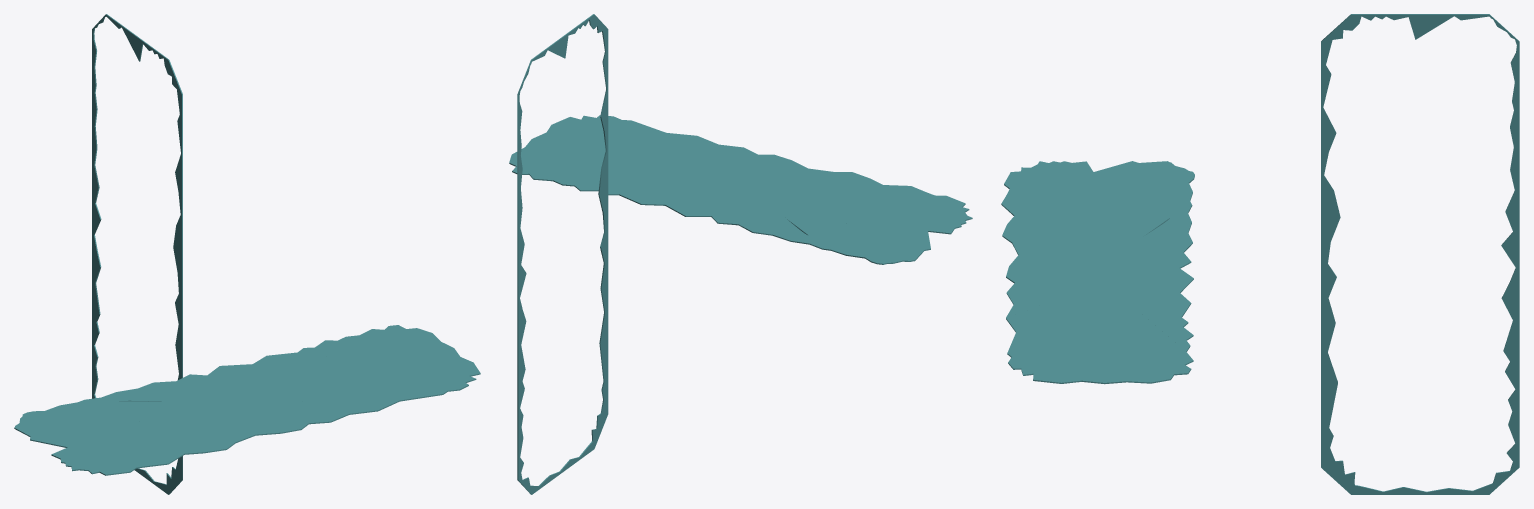
Rendered from KIRIK_CAM.fbx.
3 views of the same model, side by side, from view 1: azimuth 30°, elevation 25°; view 2: azimuth 150°, elevation 25°; view 3: azimuth 270°, elevation 25° (orthographic). The views are drawn at different scales.
Visible parts, largest first — view 1: Object006, Line024, Line003, Line023, Line005, Line021, Line008, Line022, Line012, Line010, Line018, Line017 (+4 smaller); view 2: Line003, Object006, Line024, Line023, Line005, Line021, Line008, Line022, Line012, Line010, Line018, Line017 (+4 smaller); view 3: Line003, Object006, Line024, Line023, Line005, Line021, Line008, Line022, Line012, Line018, Line010, Line017 (+4 smaller).
Boxes of the visible parts, x1,y1,x2,y2 form: Object006: [119, 370, 316, 447]; Line024: [305, 357, 480, 411]; Line003: [92, 14, 182, 494]; Line023: [305, 325, 459, 369]; Line005: [51, 423, 173, 474]; Line021: [154, 356, 266, 397]; Line008: [14, 423, 172, 447]; Line022: [257, 335, 358, 375]; Line012: [99, 423, 180, 475]; Line010: [22, 401, 136, 421]; Line018: [285, 370, 377, 410]; Line017: [281, 399, 377, 424]; Line003: [517, 14, 608, 494]; Object006: [652, 155, 874, 235]; Line024: [546, 115, 696, 182]; Line023: [509, 132, 651, 182]; Line005: [826, 204, 972, 234]; Line021: [641, 195, 756, 232]; Line008: [826, 204, 927, 259]; Line022: [553, 180, 687, 204]; Line012: [825, 192, 965, 207]; Line010: [809, 218, 886, 264]; Line018: [652, 136, 712, 182]; Line017: [697, 136, 757, 170]; Line003: [1321, 14, 1519, 494]; Object006: [1014, 214, 1169, 309]; Line024: [1006, 310, 1137, 383]; Line023: [1081, 310, 1193, 384]; Line005: [1021, 161, 1093, 227]; Line021: [1125, 242, 1193, 302]; Line008: [1090, 161, 1167, 227]; Line022: [1138, 288, 1193, 351]; Line012: [1004, 171, 1089, 228]; Line018: [1007, 288, 1136, 317]; Line010: [1114, 171, 1194, 217]; Line017: [1006, 277, 1069, 317].
Size of the model in its own units: 159 by 160 by 156.
